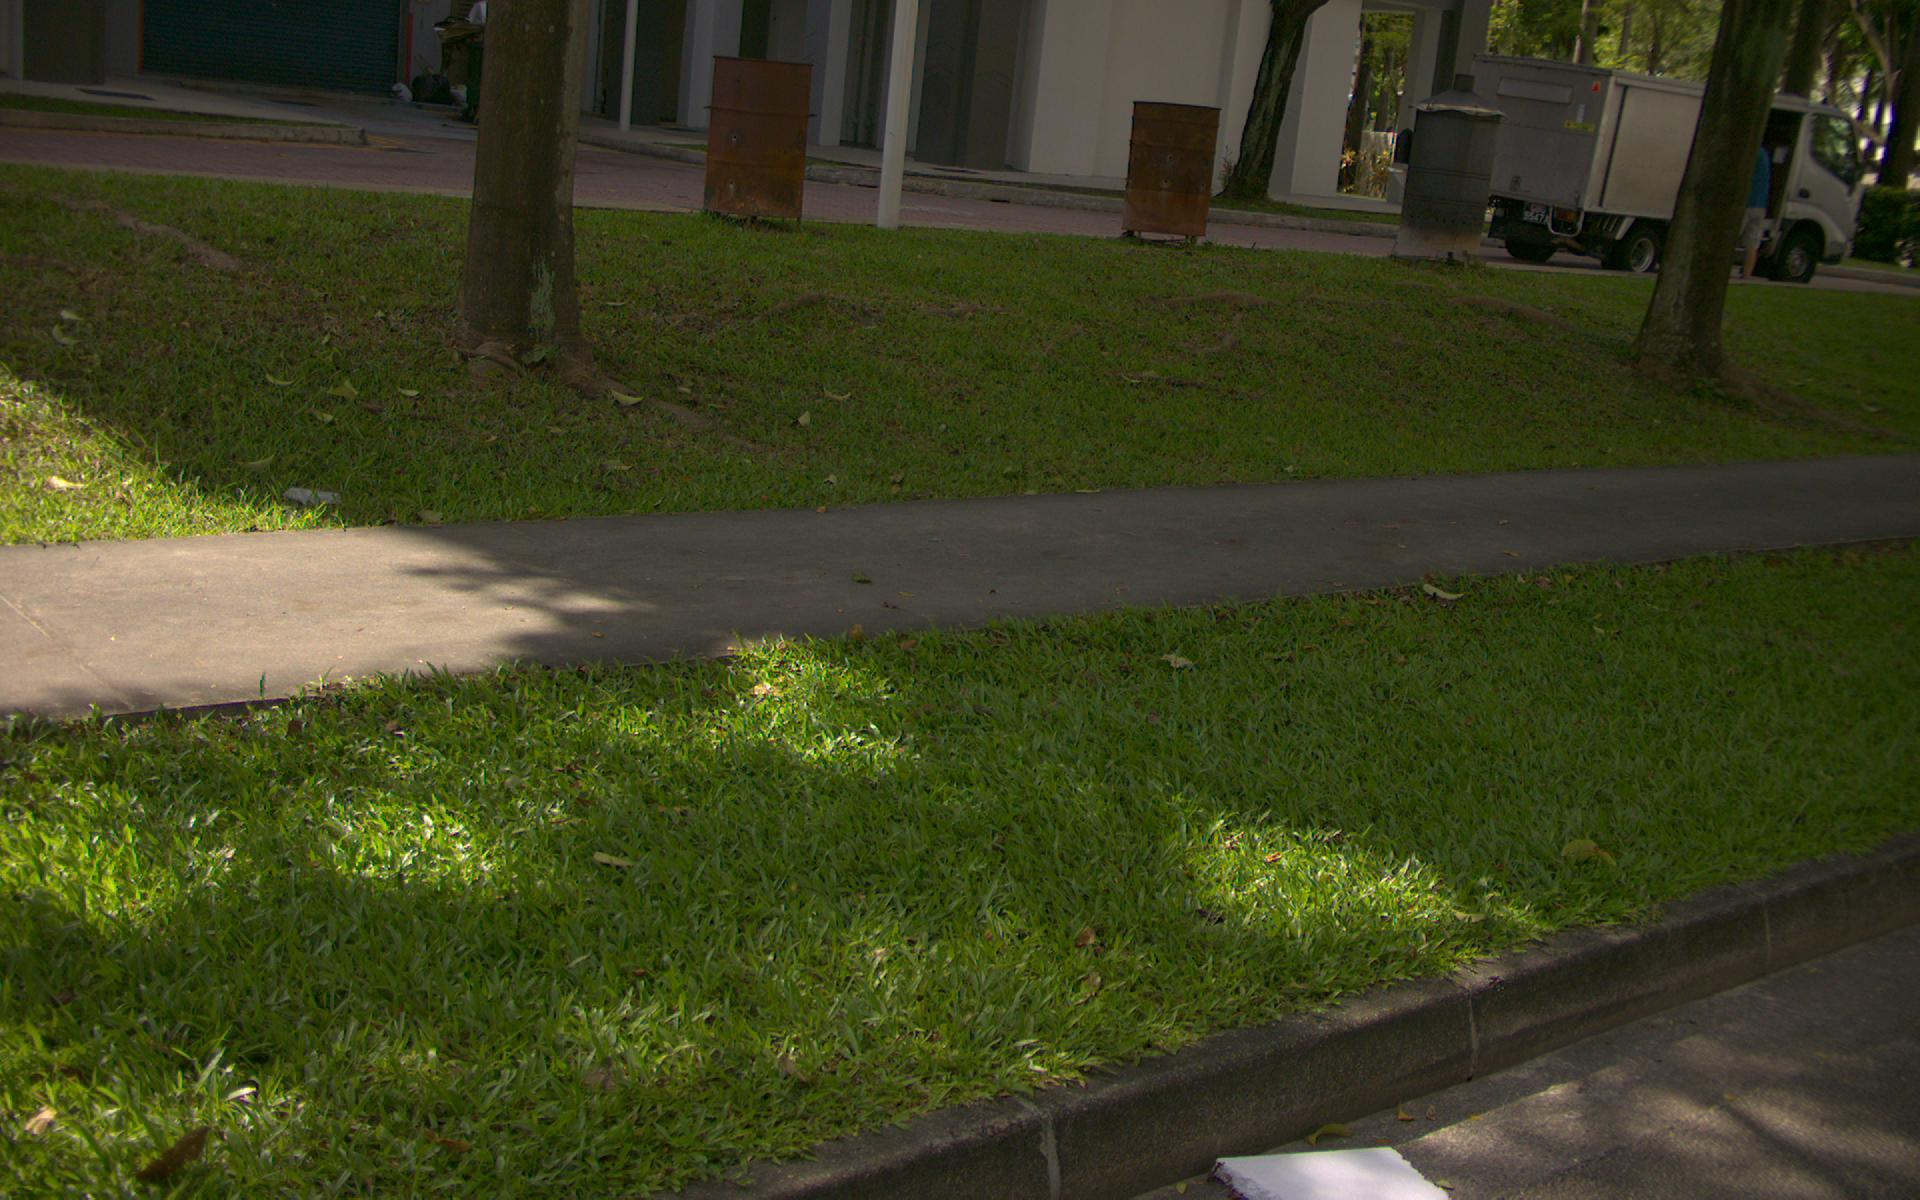road_curb_low: (1167, 930, 1897, 1194)
road_turf_low: (28, 546, 1901, 1185)
